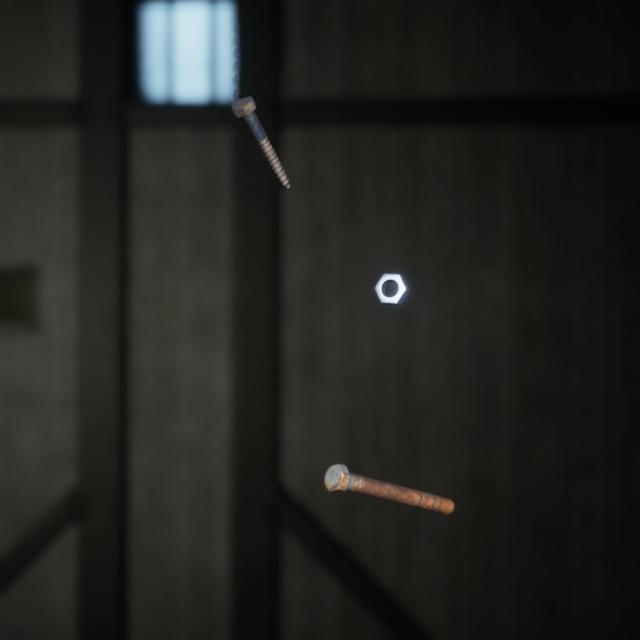bolt: (319, 438, 459, 499), (228, 78, 294, 180)
nut: (369, 252, 414, 293)
